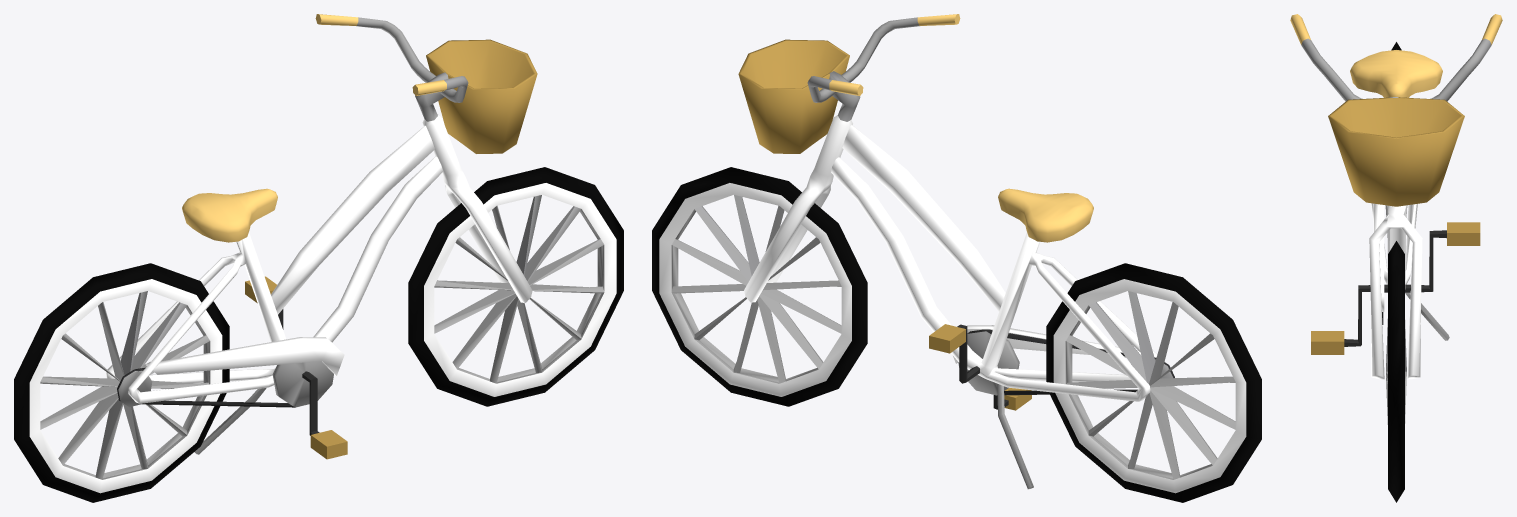
Rendered from BicycleBeachCruiserBasketWhiteKickstand.glb.
3 views of the same model, side by side, from view 1: azimuth 30°, elevation 25°; view 2: azimuth 150°, elevation 25°; view 3: azimuth 270°, elevation 25° (orthographic). The views are drawn at different scales.
Parts seen in each view (by area): view 1: BicycleBeachCruiserBasketWhiteKickstand; view 2: BicycleBeachCruiserBasketWhiteKickstand; view 3: BicycleBeachCruiserBasketWhiteKickstand.
Boxes of the visible parts, x1,y1,x2,y2 form: BicycleBeachCruiserBasketWhiteKickstand: [14, 14, 623, 502]; BicycleBeachCruiserBasketWhiteKickstand: [652, 14, 1261, 502]; BicycleBeachCruiserBasketWhiteKickstand: [1290, 14, 1502, 502].
Size of what is drawn, in the model's own units: 2.47 by 1.5 by 0.7197.
Materials: 1 (1 with a texture image).
